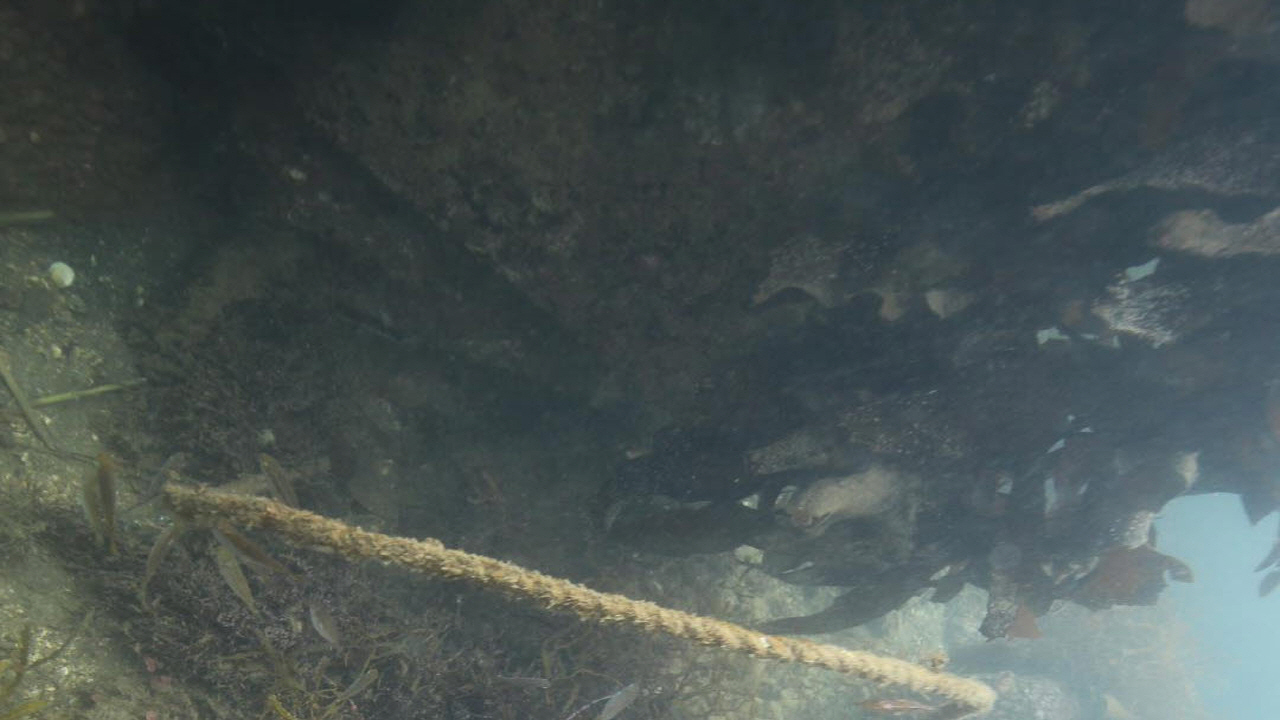rope: (159, 476, 995, 720)
